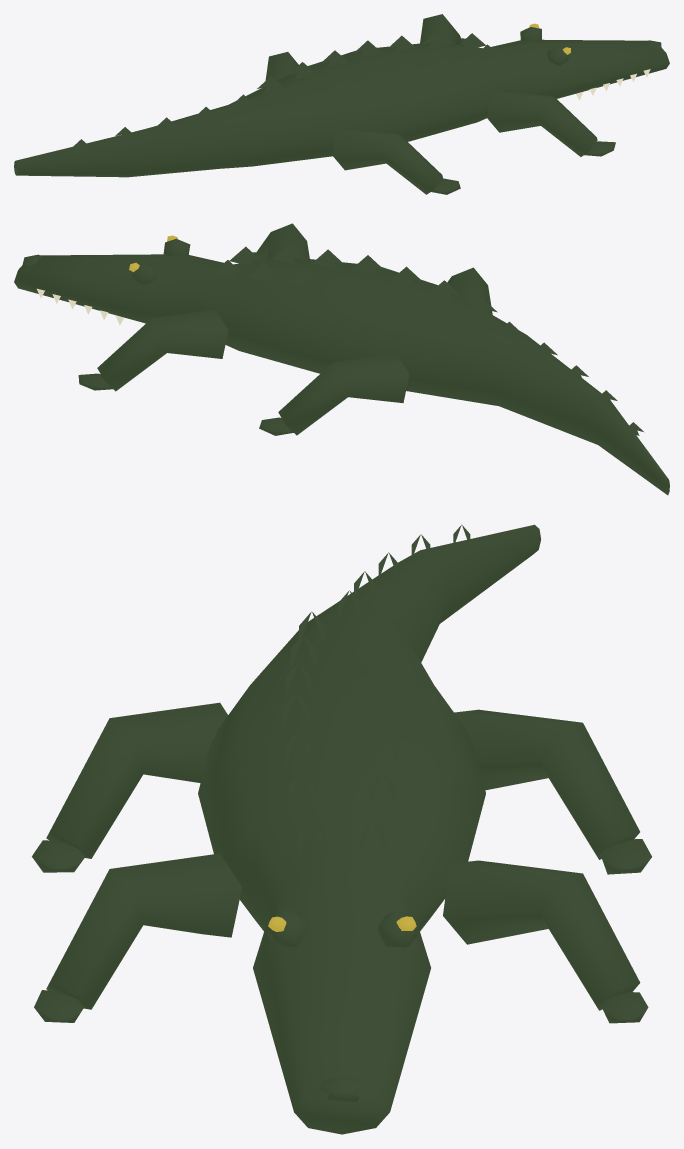
Rendered from Blender_Alligator_1.glb.
3 renders of one model, top to bottom at view 1: azimuth 30°, elevation 25°; view 2: azimuth 150°, elevation 25°; view 3: azimuth 270°, elevation 25°, orthographic. The views are drawn at different scales.
Parts seen in each view (by area): view 1: Blender_Alligator_1; view 2: Blender_Alligator_1; view 3: Blender_Alligator_1.
Boxes of the visible parts, box(x1,y1,x2,y2) form: Blender_Alligator_1: box(14, 14, 669, 194); Blender_Alligator_1: box(14, 223, 669, 495); Blender_Alligator_1: box(32, 524, 651, 1134).
Size of the model in its own units: 3.22 by 0.4727 by 1.45.
